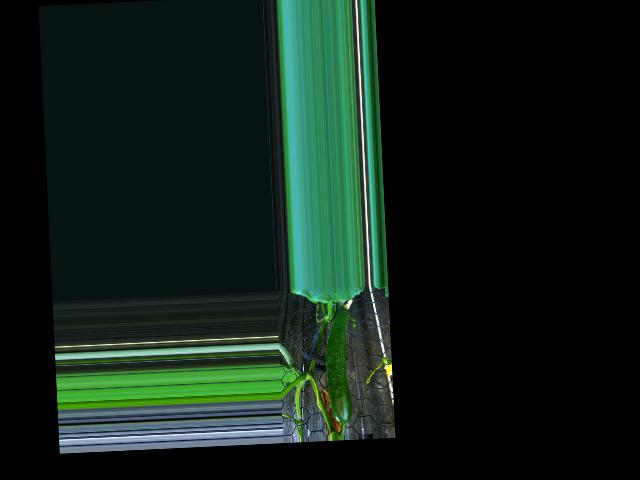cucumber: (322, 309, 353, 424)
